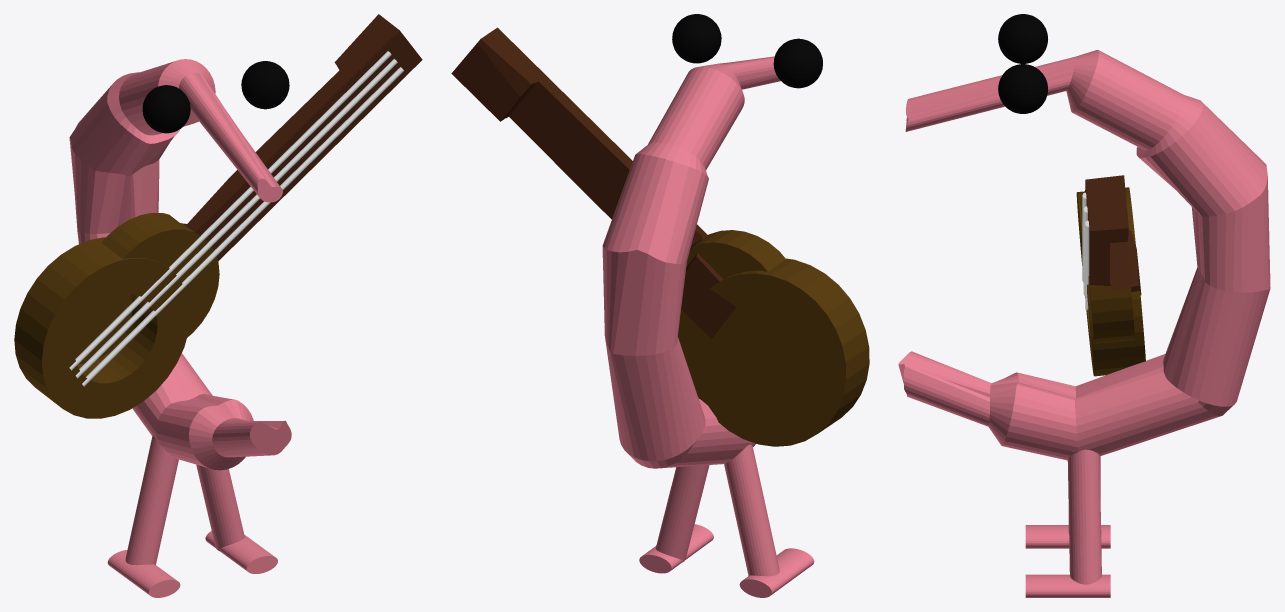
Rendered from shrimp.glb.
The picture shows the model from 3 angles, left to right: view 1: azimuth 30°, elevation 25°; view 2: azimuth 150°, elevation 25°; view 3: azimuth 270°, elevation 25°; orthographic projection. The views are drawn at different scales.
Visible parts, largest first — view 1: Guitar, Shrimp; view 2: Shrimp, Guitar; view 3: Shrimp, Guitar.
Boxes of the visible parts, x1=… form: Guitar: x1=14, y1=14, x2=422, y2=418; Shrimp: x1=69, y1=59, x2=291, y2=597; Shrimp: x1=602, y1=14, x2=822, y2=597; Guitar: x1=451, y1=27, x2=869, y2=446; Shrimp: x1=898, y1=14, x2=1270, y2=597; Guitar: x1=1076, y1=175, x2=1145, y2=376.
Bounding box in the file's own units: 10.89 × 13.69 × 8.72.
